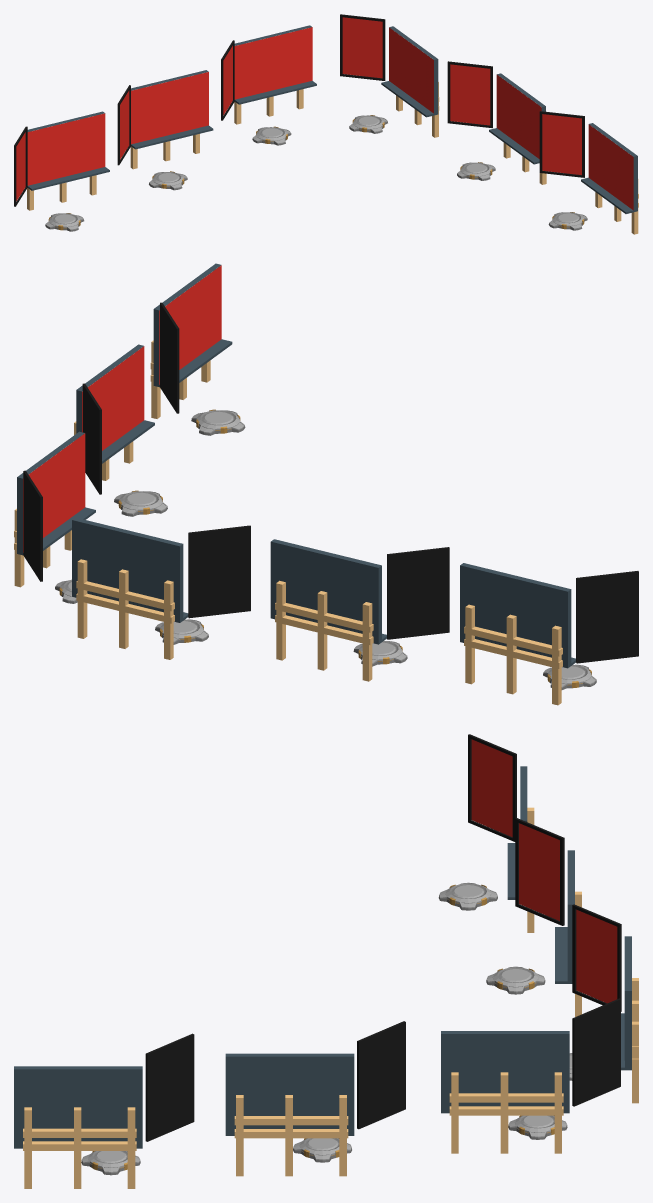
File: billboardSetmultiple2.glb
3 renders of one model, top to bottom at view 1: azimuth 30°, elevation 25°; view 2: azimuth 150°, elevation 25°; view 3: azimuth 270°, elevation 25°, orthographic. The views are drawn at different scales.
Parts seen in each view (by area): view 1: billboard.016, billboard.004, billboard.001, billboard.013, billboard.007, billboard.010, billboard.008, billboard.011, billboard.014, billboard.012, billboard.006, billboard.003 (+18 smaller); view 2: billboard, billboard.003, billboard.015, sidescreenScreen.001, sidescreenScreen.005, sidescreenScreen, billboard.007, billboard.013, billboard.010, billboard.012, billboard.006, sidescreenScreen.004 (+8 smaller); view 3: billboard.009, billboard.006, billboard.012, sidescreenScreen.004, sidescreenScreen.003, sidescreenScreen.002, billboard.017, billboard.005, billboard.002, billboard.003, billboard, billboard.015 (+8 smaller).
Part boxes in pixels (x1=…): billboard.016: x1=27, y1=113, x2=105, y2=185; billboard.004: x1=234, y1=27, x2=312, y2=99; billboard.001: x1=131, y1=72, x2=208, y2=144; billboard.013: x1=588, y1=124, x2=633, y2=210; billboard.007: x1=389, y1=27, x2=433, y2=113; billboard.010: x1=496, y1=74, x2=541, y2=158; billboard.008: x1=342, y1=17, x2=382, y2=78; billboard.011: x1=450, y1=64, x2=490, y2=125; billboard.014: x1=542, y1=114, x2=581, y2=174; billboard.012: x1=581, y1=123, x2=638, y2=234; billboard.006: x1=381, y1=26, x2=439, y2=137; billboard.003: x1=234, y1=25, x2=316, y2=124; billboard: x1=270, y1=539, x2=386, y2=681; billboard.003: x1=72, y1=517, x2=188, y2=659; billboard.015: x1=460, y1=563, x2=575, y2=705; sidescreenScreen.001: x1=188, y1=525, x2=250, y2=618; sidescreenScreen.005: x1=576, y1=571, x2=638, y2=663; sidescreenScreen: x1=387, y1=547, x2=449, y2=639; billboard.007: x1=23, y1=433, x2=85, y2=552; billboard.013: x1=159, y1=265, x2=221, y2=384; billboard.010: x1=82, y1=346, x2=144, y2=450; billboard.012: x1=150, y1=263, x2=232, y2=418; billboard.006: x1=14, y1=431, x2=95, y2=587; sidescreenScreen.004: x1=160, y1=302, x2=179, y2=413; billboard.009: x1=225, y1=1053, x2=354, y2=1176; billboard.006: x1=441, y1=1031, x2=569, y2=1153; billboard.012: x1=14, y1=1066, x2=142, y2=1188; sidescreenScreen.004: x1=145, y1=1033, x2=194, y2=1141; sidescreenScreen.003: x1=357, y1=1021, x2=405, y2=1129; sidescreenScreen.002: x1=572, y1=998, x2=620, y2=1106; billboard.017: x1=471, y1=739, x2=512, y2=836; billboard.005: x1=576, y1=909, x2=617, y2=1003; billboard.002: x1=519, y1=823, x2=559, y2=920; billboard.003: x1=621, y1=936, x2=638, y2=1103; billboard: x1=555, y1=850, x2=581, y2=1016; billboard.015: x1=507, y1=766, x2=534, y2=932.
Size of the model in its own units: 30.8 by 5.65 by 24.82.
